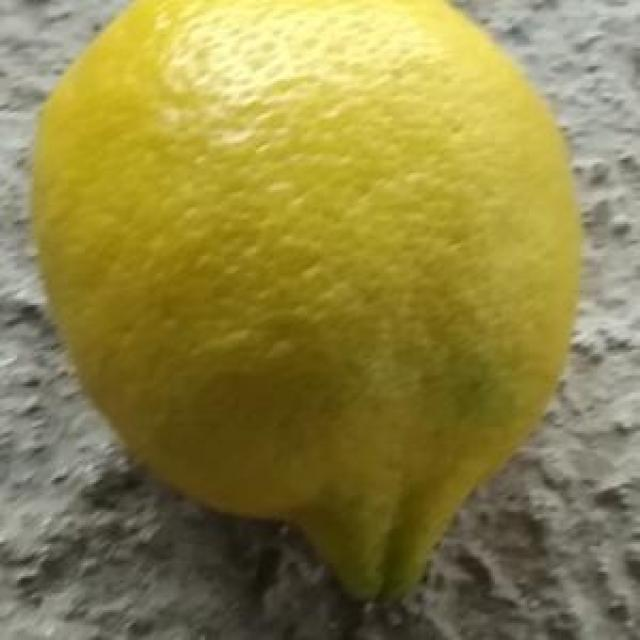lemon: (27, 0, 592, 602)
